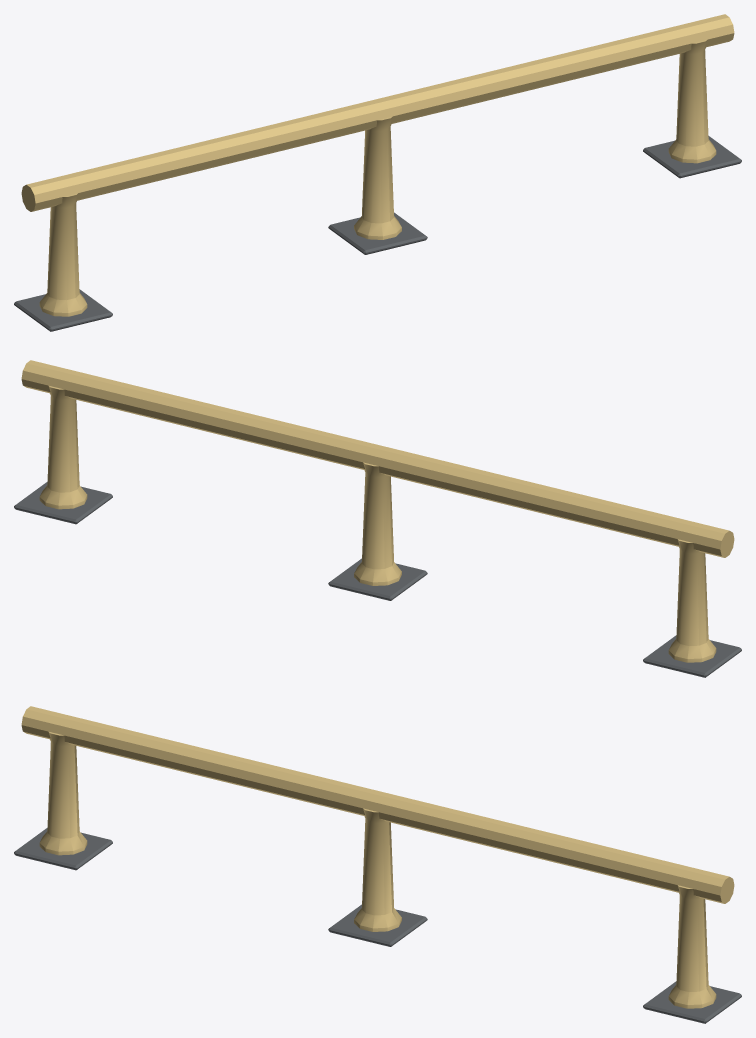
File: bar-pub-and-brewery-taproom-bar-foot-rail-af470d65__18324.glb
The picture shows the model from 3 angles, top to bottom: view 1: azimuth 30°, elevation 25°; view 2: azimuth 150°, elevation 25°; view 3: azimuth 330°, elevation 25°; orthographic projection.
Parts seen in each view (by area): view 1: bar-foot-rail; view 2: bar-foot-rail; view 3: bar-foot-rail.
Part boxes in pixels (x1,y1,x2,y2): bar-foot-rail: (14, 14, 741, 331); bar-foot-rail: (14, 360, 741, 677); bar-foot-rail: (14, 706, 741, 1023).
Size of the model in its own units: 1.2 by 0.2199 by 0.11.
